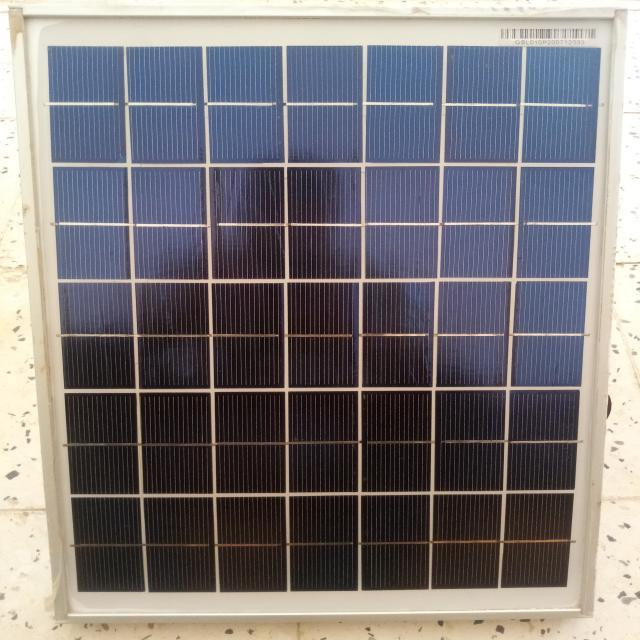no faulty: (14, 9, 628, 617)
